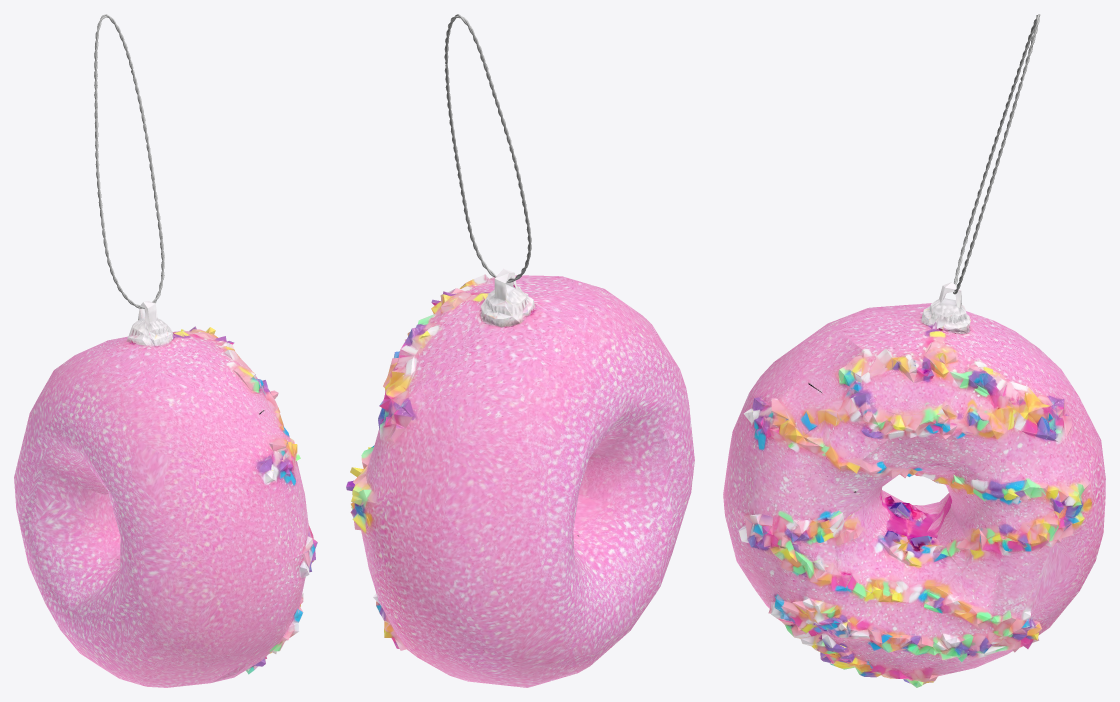
The model's file is Sprinkled_donut3.glb.
3 renders of one model, left to right at view 1: azimuth 30°, elevation 25°; view 2: azimuth 150°, elevation 25°; view 3: azimuth 270°, elevation 25°, orthographic. The views are drawn at different scales.
Parts seen in each view (by area): view 1: Mesh1.0, GN Instance; view 2: Mesh1.0, GN Instance; view 3: Mesh1.0, GN Instance.
Part boxes in pixels (left/top/right/bottom): Mesh1.0: left=14, top=301, right=317, bottom=687; GN Instance: left=94, top=14, right=164, bottom=308; Mesh1.0: left=346, top=269, right=694, bottom=687; GN Instance: left=444, top=14, right=531, bottom=282; Mesh1.0: left=723, top=282, right=1105, bottom=687; GN Instance: left=953, top=14, right=1040, bottom=294.
Size of the model in its own units: 0.047 by 0.1527 by 0.0809.
Materials: 2 (1 with a texture image).
